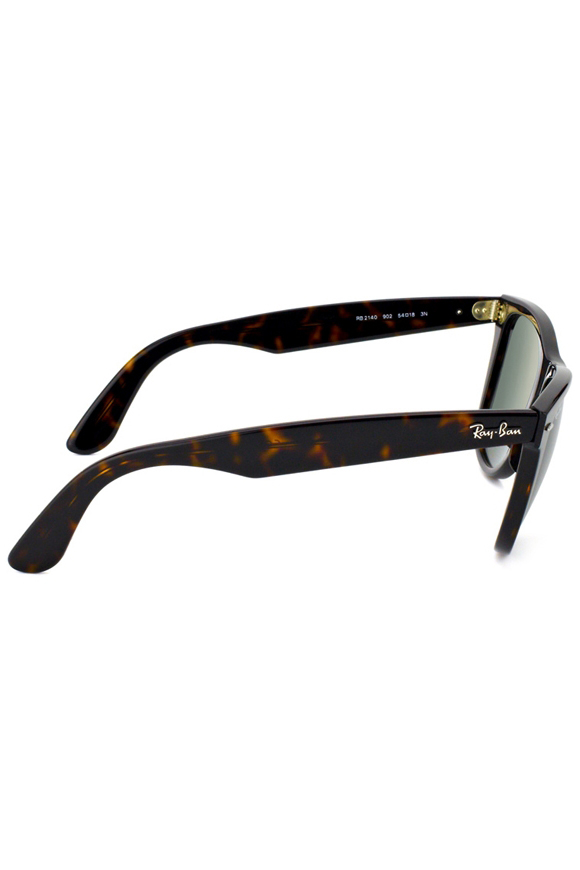Rayban: (460, 417, 528, 442)
